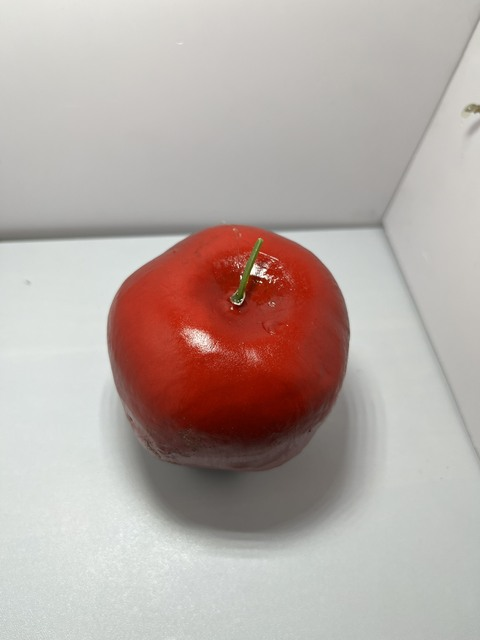Tao: (102, 219, 356, 482)
